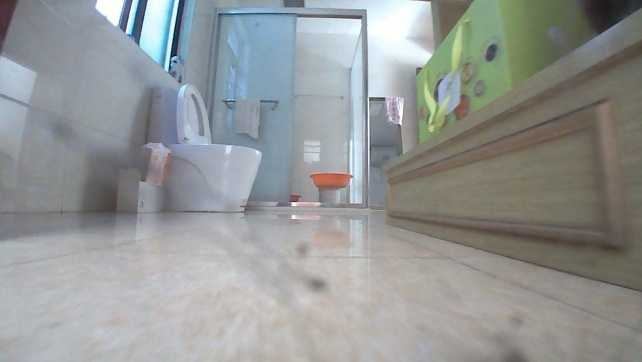toilet: (142, 80, 263, 215)
